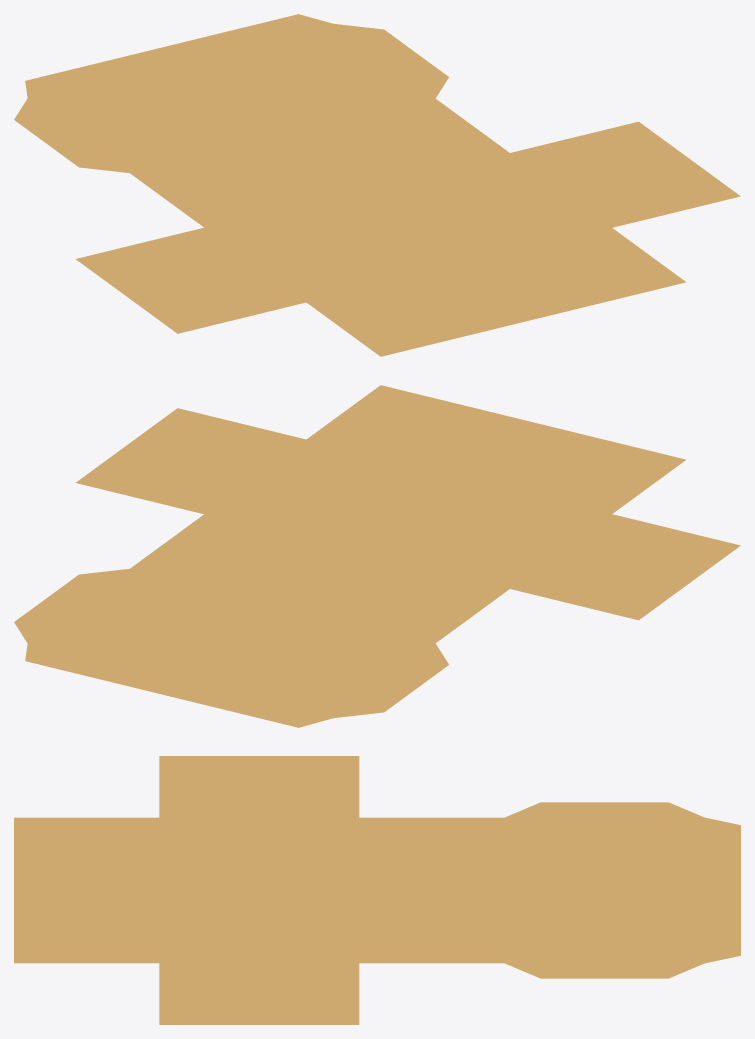
Rendered from cardbox_11_9_8.glb.
3 renders of one model, top to bottom at view 1: azimuth 30°, elevation 25°; view 2: azimuth 150°, elevation 25°; view 3: azimuth 270°, elevation 25°, orthographic. The views are drawn at different scales.
Visible parts, largest first — view 1: Bottom, Top, Front, Back, Right, Left, TopTop, TopLeft, TopRight; view 2: Bottom, Top, Front, Back, Left, Right, TopTop, TopLeft, TopRight; view 3: Bottom, Top, Back, Front, Right, Left, TopTop, TopLeft, TopRight.
Boxes of the visible parts, <box> form: Bottom: <box>204,153,611,302</box>; Top: <box>28,24,435,172</box>; Front: <box>306,228,685,356</box>; Back: <box>130,98,509,227</box>; Right: <box>510,121,740,227</box>; Left: <box>76,227,305,333</box>; TopTop: <box>25,14,332,98</box>; TopLeft: <box>14,98,128,172</box>; TopRight: <box>334,24,448,98</box>; Bottom: <box>204,439,611,588</box>; Top: <box>28,569,435,717</box>; Front: <box>306,385,685,513</box>; Back: <box>130,514,509,643</box>; Left: <box>510,514,740,620</box>; Right: <box>76,408,305,514</box>; TopTop: <box>25,643,332,727</box>; TopLeft: <box>334,643,448,717</box>; TopRight: <box>14,569,128,643</box>; Bottom: <box>159,817,359,963</box>; Top: <box>504,817,704,963</box>; Back: <box>359,817,504,963</box>; Front: <box>14,817,159,963</box>; Right: <box>159,963,359,1024</box>; Left: <box>159,756,359,817</box>; TopTop: <box>704,817,740,963</box>; TopLeft: <box>505,802,704,817</box>; TopRight: <box>505,963,704,978</box>.
Size of the model in its own units: 0.35 by 9.31e-10 by 0.4.
